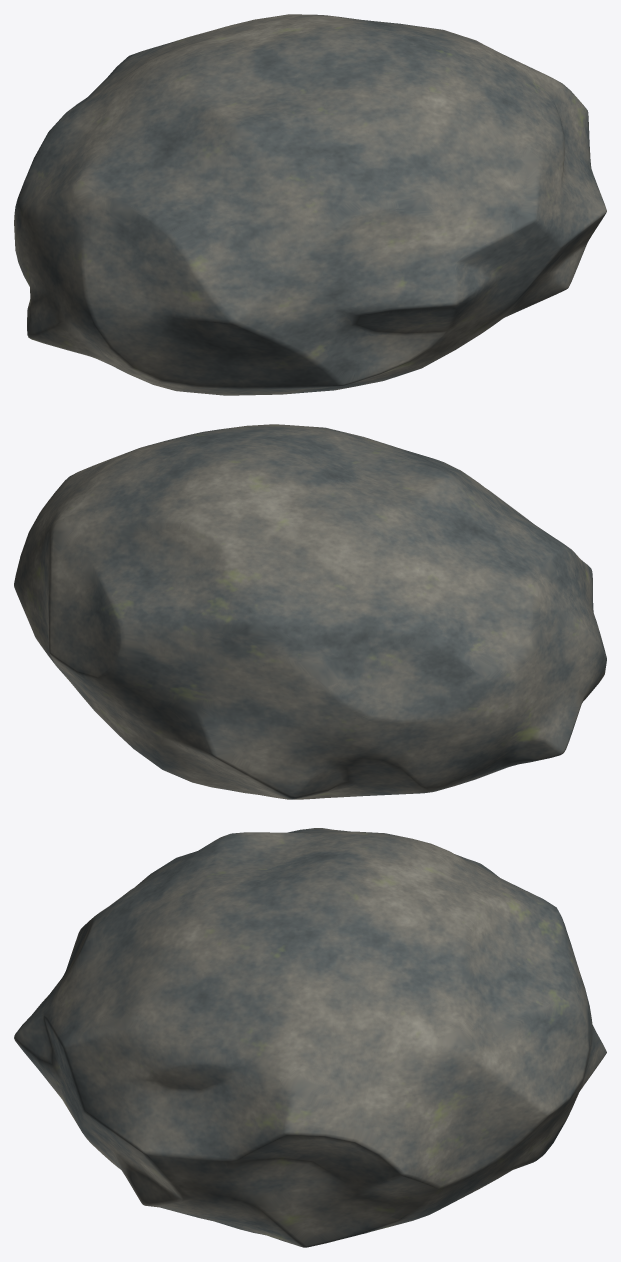
The model's file is WeatheredBoulder.glb.
3 renders of one model, top to bottom at view 1: azimuth 30°, elevation 25°; view 2: azimuth 150°, elevation 25°; view 3: azimuth 270°, elevation 25°, orthographic. The views are drawn at different scales.
Visible parts, largest first — view 1: WeatheredBoulder; view 2: WeatheredBoulder; view 3: WeatheredBoulder.
Boxes of the visible parts, box(x1,y1,x2,y2) form: WeatheredBoulder: box(14, 14, 606, 395); WeatheredBoulder: box(14, 424, 606, 799); WeatheredBoulder: box(14, 828, 606, 1247).
Size of the model in its own units: 2.34 by 1.15 by 2.06.
Materials: 1 (1 with a texture image).
